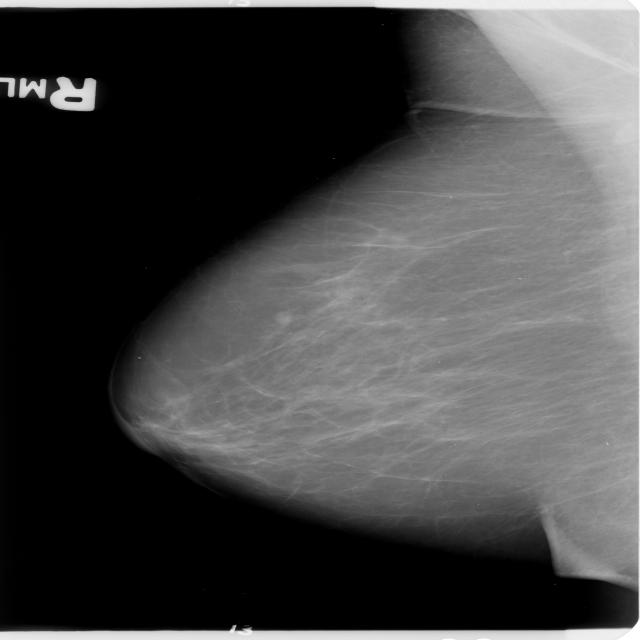normal: (65, 78, 640, 556)
